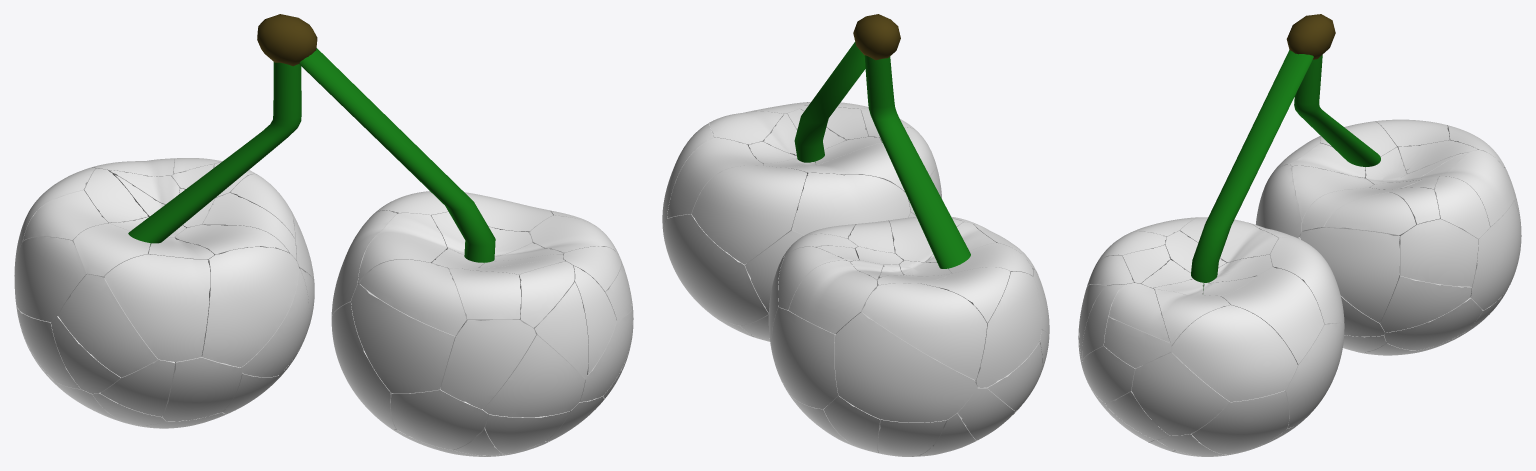
Rendered from Cherry Meledak (revisi).fbx.
3 renders of one model, left to right at view 1: azimuth 30°, elevation 25°; view 2: azimuth 150°, elevation 25°; view 3: azimuth 270°, elevation 25°, orthographic. The views are drawn at different scales.
Visible parts, largest first — view 1: Icosphere, Sphere.001_cell.001, Sphere.001_cell.009, Sphere_cell.027, Sphere_cell.019, Sphere.001_cell.039, Sphere_cell.021, Sphere_cell.016, Sphere.001_cell.045, Sphere_cell.001, Sphere.001_cell.021, Sphere_cell.034 (+36 smaller); view 2: Icosphere, Sphere.001_cell.027, Sphere_cell.006, Sphere.001_cell.047, Sphere_cell.028, Sphere_cell.037, Sphere.001_cell.013, Sphere.001_cell.045, Sphere.001_cell.002, Sphere_cell.038, Sphere.001_cell.017, Sphere_cell.005 (+28 smaller); view 3: Icosphere, Sphere_cell.044, Sphere.001_cell.044, Sphere_cell.036, Sphere_cell.038, Sphere.001_cell.014, Sphere_cell.010, Sphere.001_cell.013, Sphere_cell.028, Sphere.001_cell.007, Sphere_cell.006, Sphere.001_cell.029 (+33 smaller).
Part boxes in pixels (x1,y1,x2,y2): Icosphere: (128, 14, 495, 262); Sphere.001_cell.001: (201, 247, 298, 367); Sphere.001_cell.009: (104, 254, 210, 361); Sphere_cell.027: (351, 283, 464, 393); Sphere_cell.019: (440, 319, 535, 409); Sphere.001_cell.039: (58, 274, 157, 377); Sphere_cell.021: (359, 259, 466, 335); Sphere_cell.016: (483, 334, 585, 417); Sphere.001_cell.045: (14, 236, 86, 321); Sphere_cell.001: (390, 387, 488, 449); Sphere.001_cell.021: (162, 357, 241, 421); Sphere_cell.034: (331, 302, 396, 429); Icosphere: (794, 14, 970, 268); Sphere.001_cell.027: (834, 312, 977, 422); Sphere_cell.006: (691, 165, 806, 264); Sphere.001_cell.047: (861, 283, 986, 380); Sphere_cell.028: (663, 214, 768, 325); Sphere_cell.037: (791, 173, 910, 235); Sphere.001_cell.013: (771, 307, 838, 408); Sphere.001_cell.045: (975, 271, 1041, 387); Sphere.001_cell.002: (788, 260, 877, 333); Sphere_cell.038: (667, 137, 762, 218); Sphere.001_cell.017: (920, 267, 1010, 323); Sphere_cell.005: (787, 142, 904, 209); Icosphere: (1191, 14, 1380, 290); Sphere_cell.044: (1171, 305, 1297, 401); Sphere.001_cell.044: (1300, 227, 1399, 322); Sphere_cell.036: (1131, 352, 1229, 435); Sphere_cell.038: (1220, 267, 1324, 364); Sphere.001_cell.014: (1399, 219, 1478, 286); Sphere_cell.010: (1192, 390, 1288, 454); Sphere.001_cell.013: (1470, 201, 1521, 310); Sphere_cell.028: (1285, 322, 1344, 428); Sphere.001_cell.007: (1380, 274, 1471, 332); Sphere_cell.006: (1270, 237, 1344, 323); Sphere.001_cell.029: (1324, 192, 1416, 236).
Size of the model in its own units: 212 by 177 by 193.
